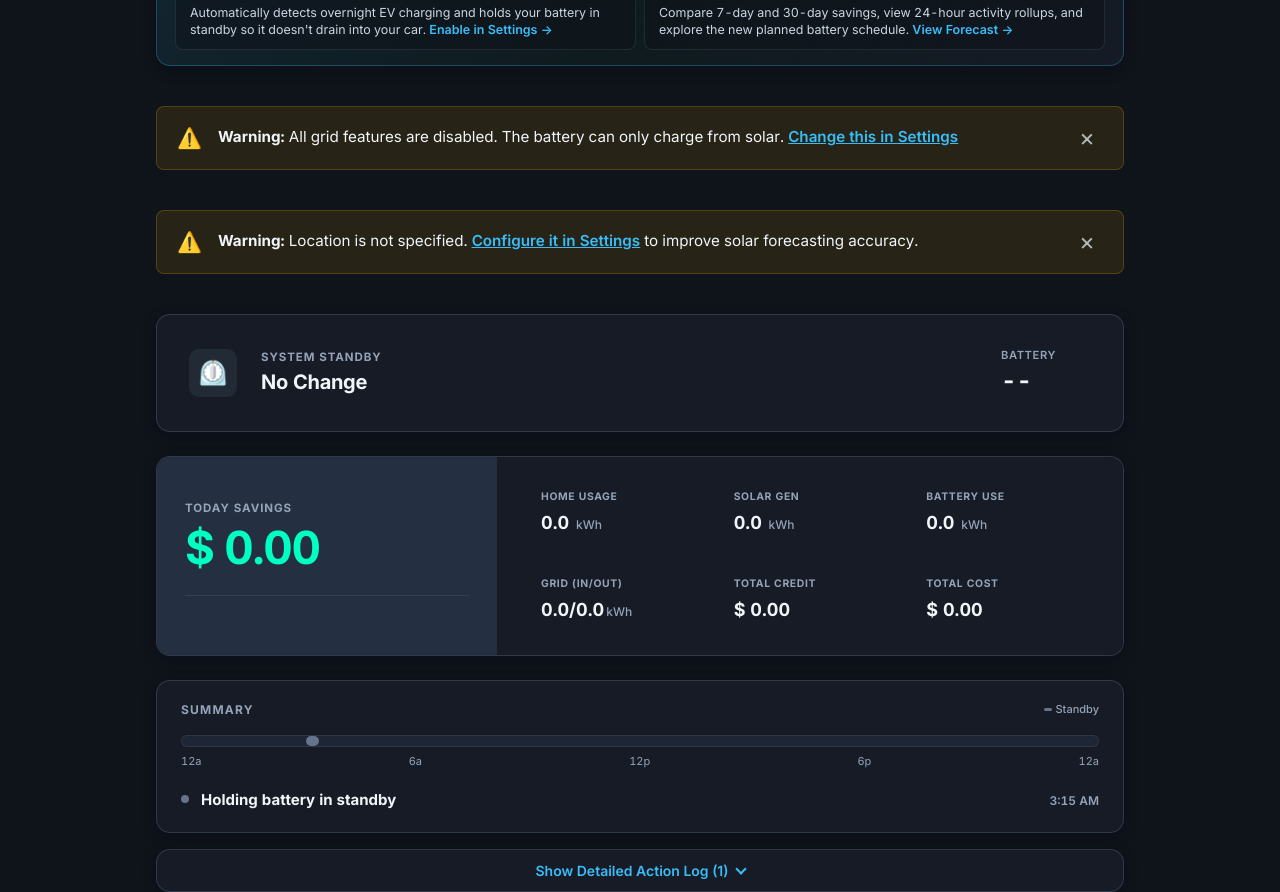
Dashboard › hides no change badges
The width and height of the screenshot is (1280, 892).
(page scrolled)
Click the button "Show Detailed Action Log (1)" at {"x": 640, "y": 870}, box [156,848,1124,891]
(page scrolled)
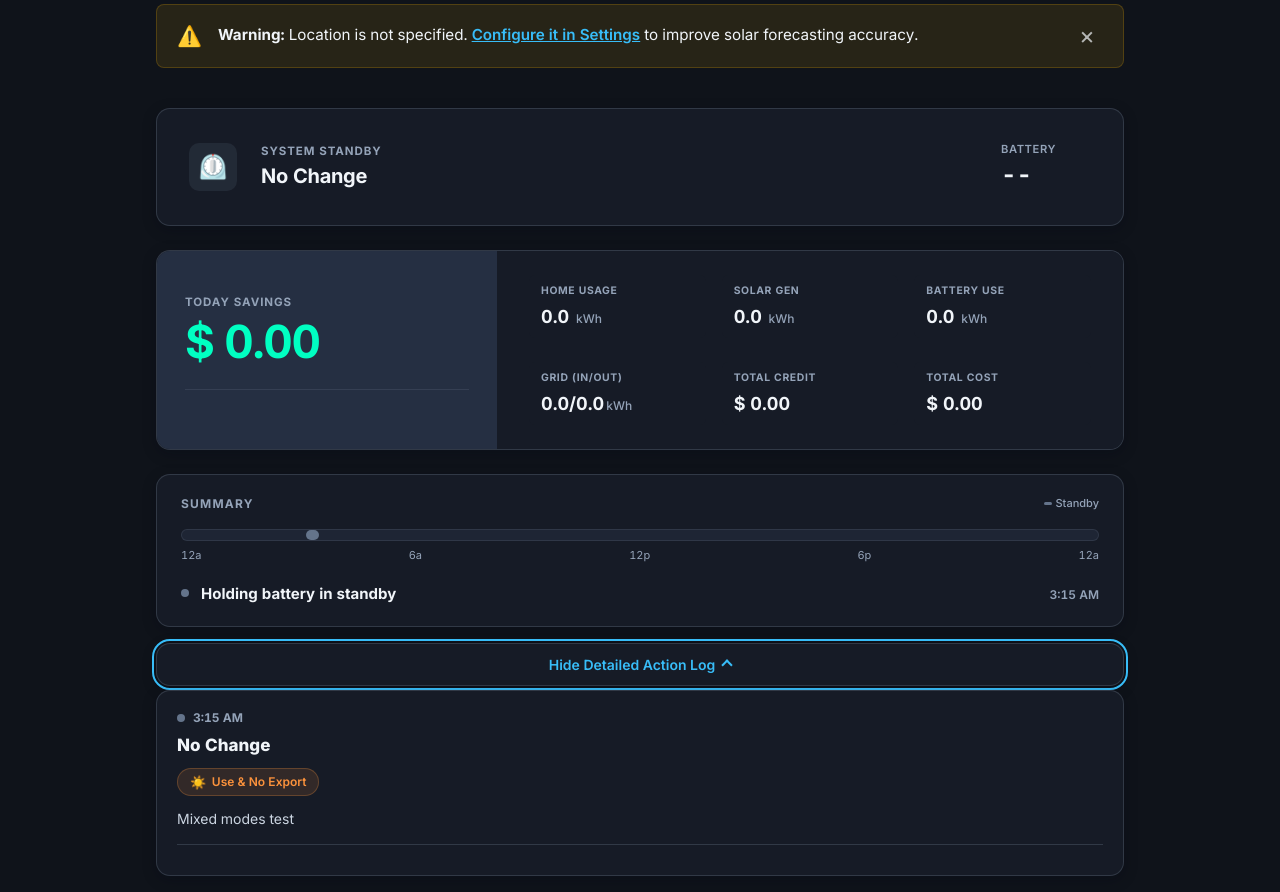
Expected: the text "Use & No Export" is shown, [212,774,306,789]
